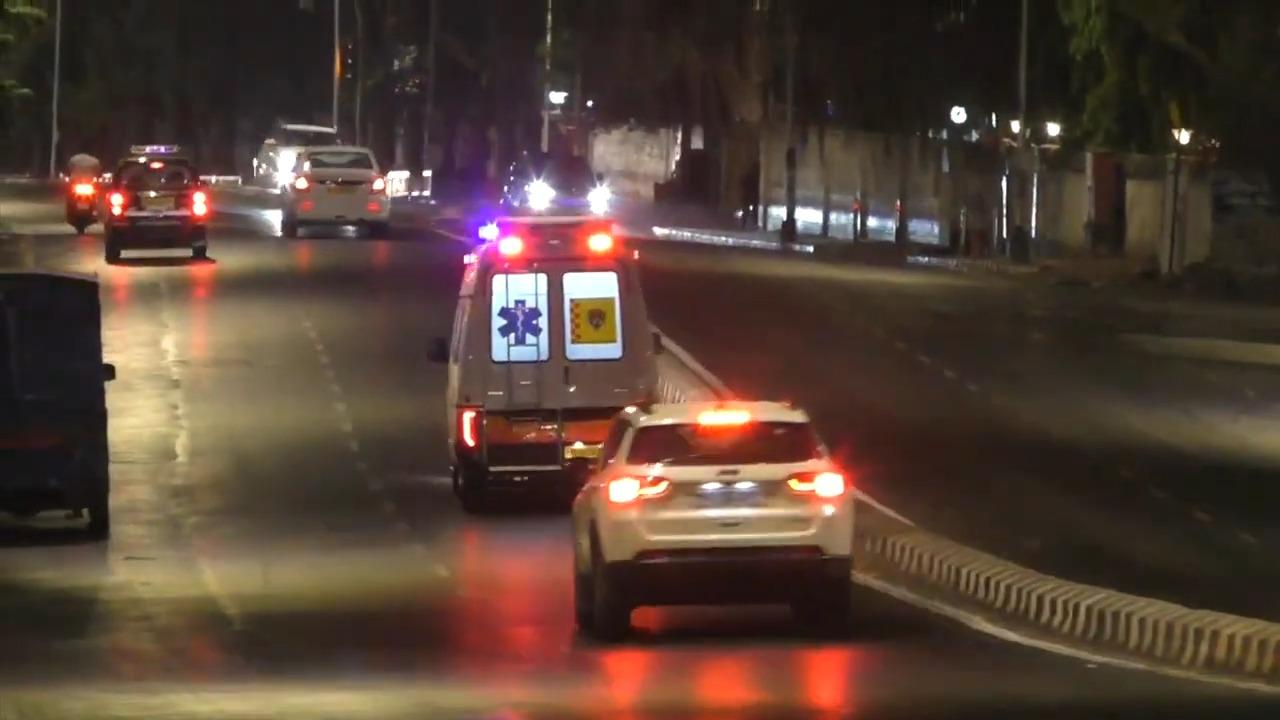ambulance: (349, 143, 653, 473)
